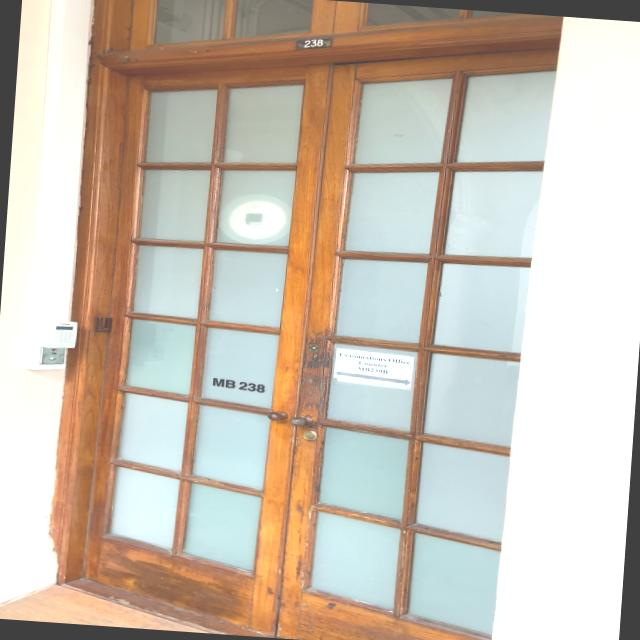room238: (296, 35, 334, 51)
